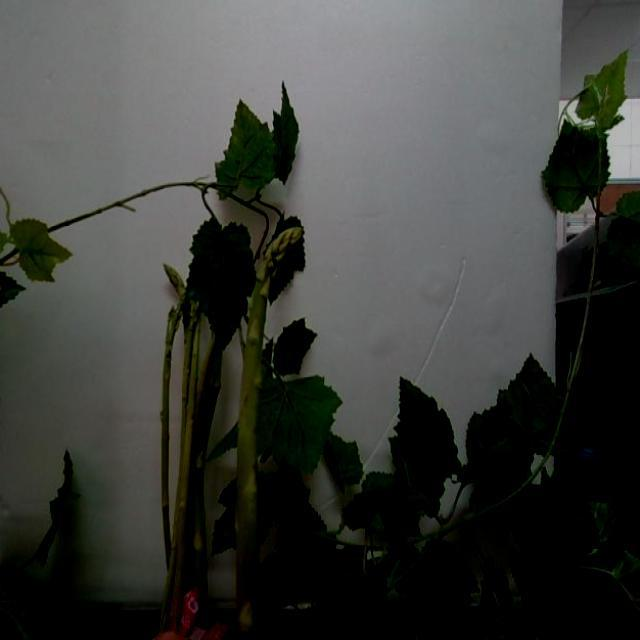aspargus: (232, 224, 304, 640)
